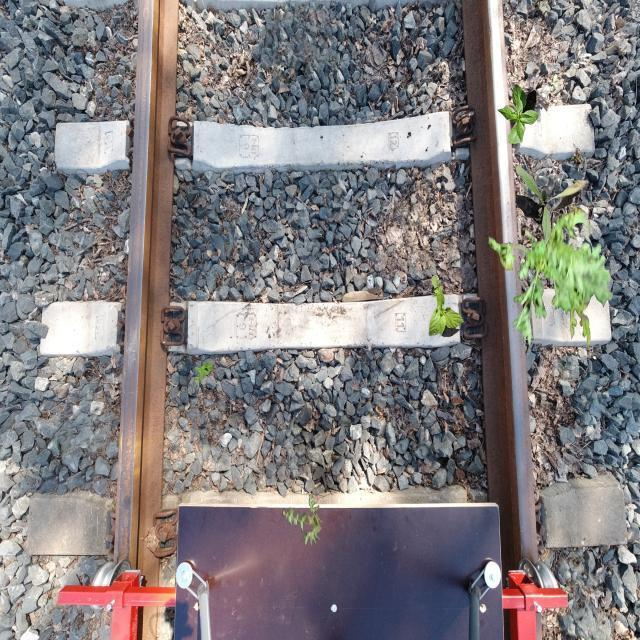Plant: (489, 203, 614, 350), (515, 166, 586, 240), (497, 84, 539, 144), (282, 493, 324, 547), (429, 275, 464, 338), (194, 360, 214, 384)
